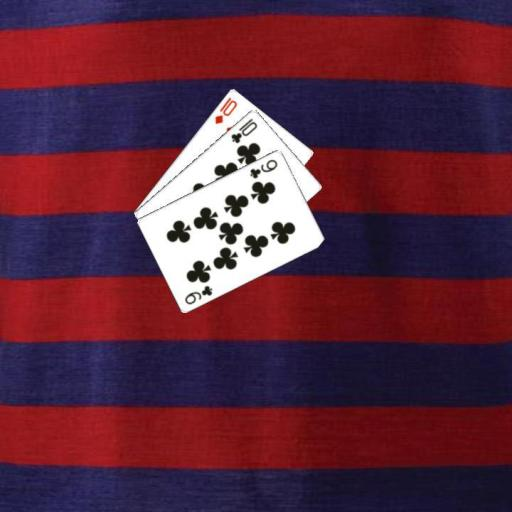10C: (227, 115, 259, 145)
10D: (211, 94, 238, 125)
9C: (181, 282, 214, 306), (247, 156, 279, 180)
